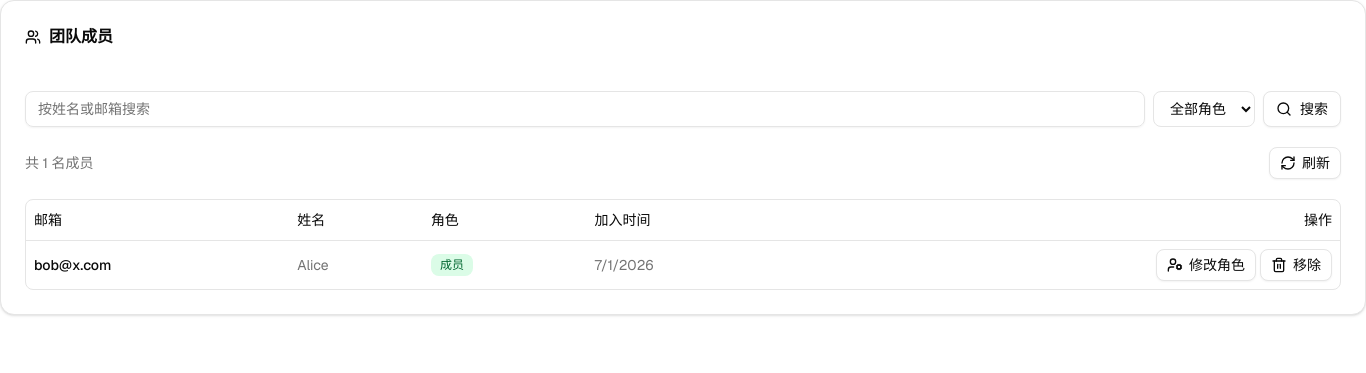
Test: TeamMembersManager - 移除成员 › 确认后发起 DELETE 契约并显示成功消息
Expected: the text "bob@x.com" is shown, top-left (26, 240), bottom-right (289, 288)
Click the button "移除": (1296, 264) top-left (1260, 248), bottom-right (1332, 280)
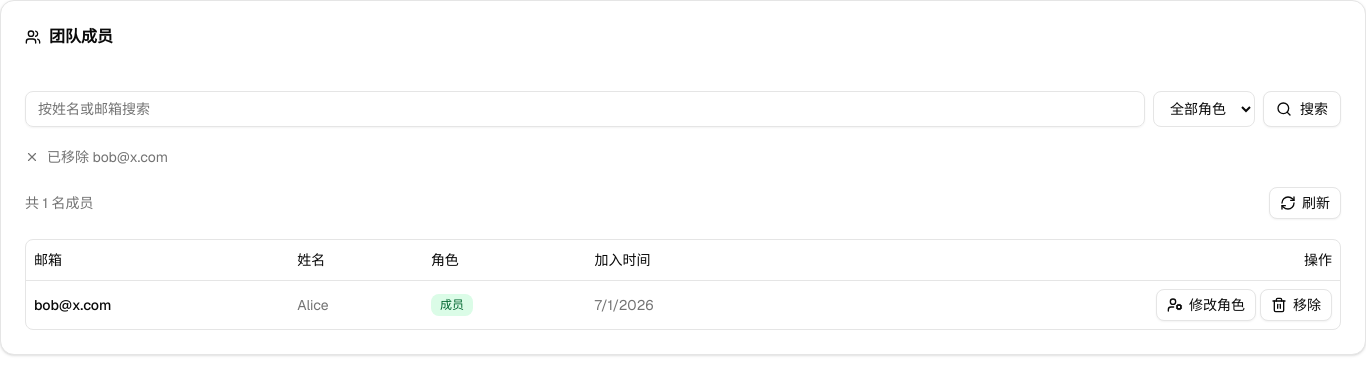
Expected: the text "已移除 bob@x.com" is shown, top-left (25, 148), bottom-right (168, 166)
